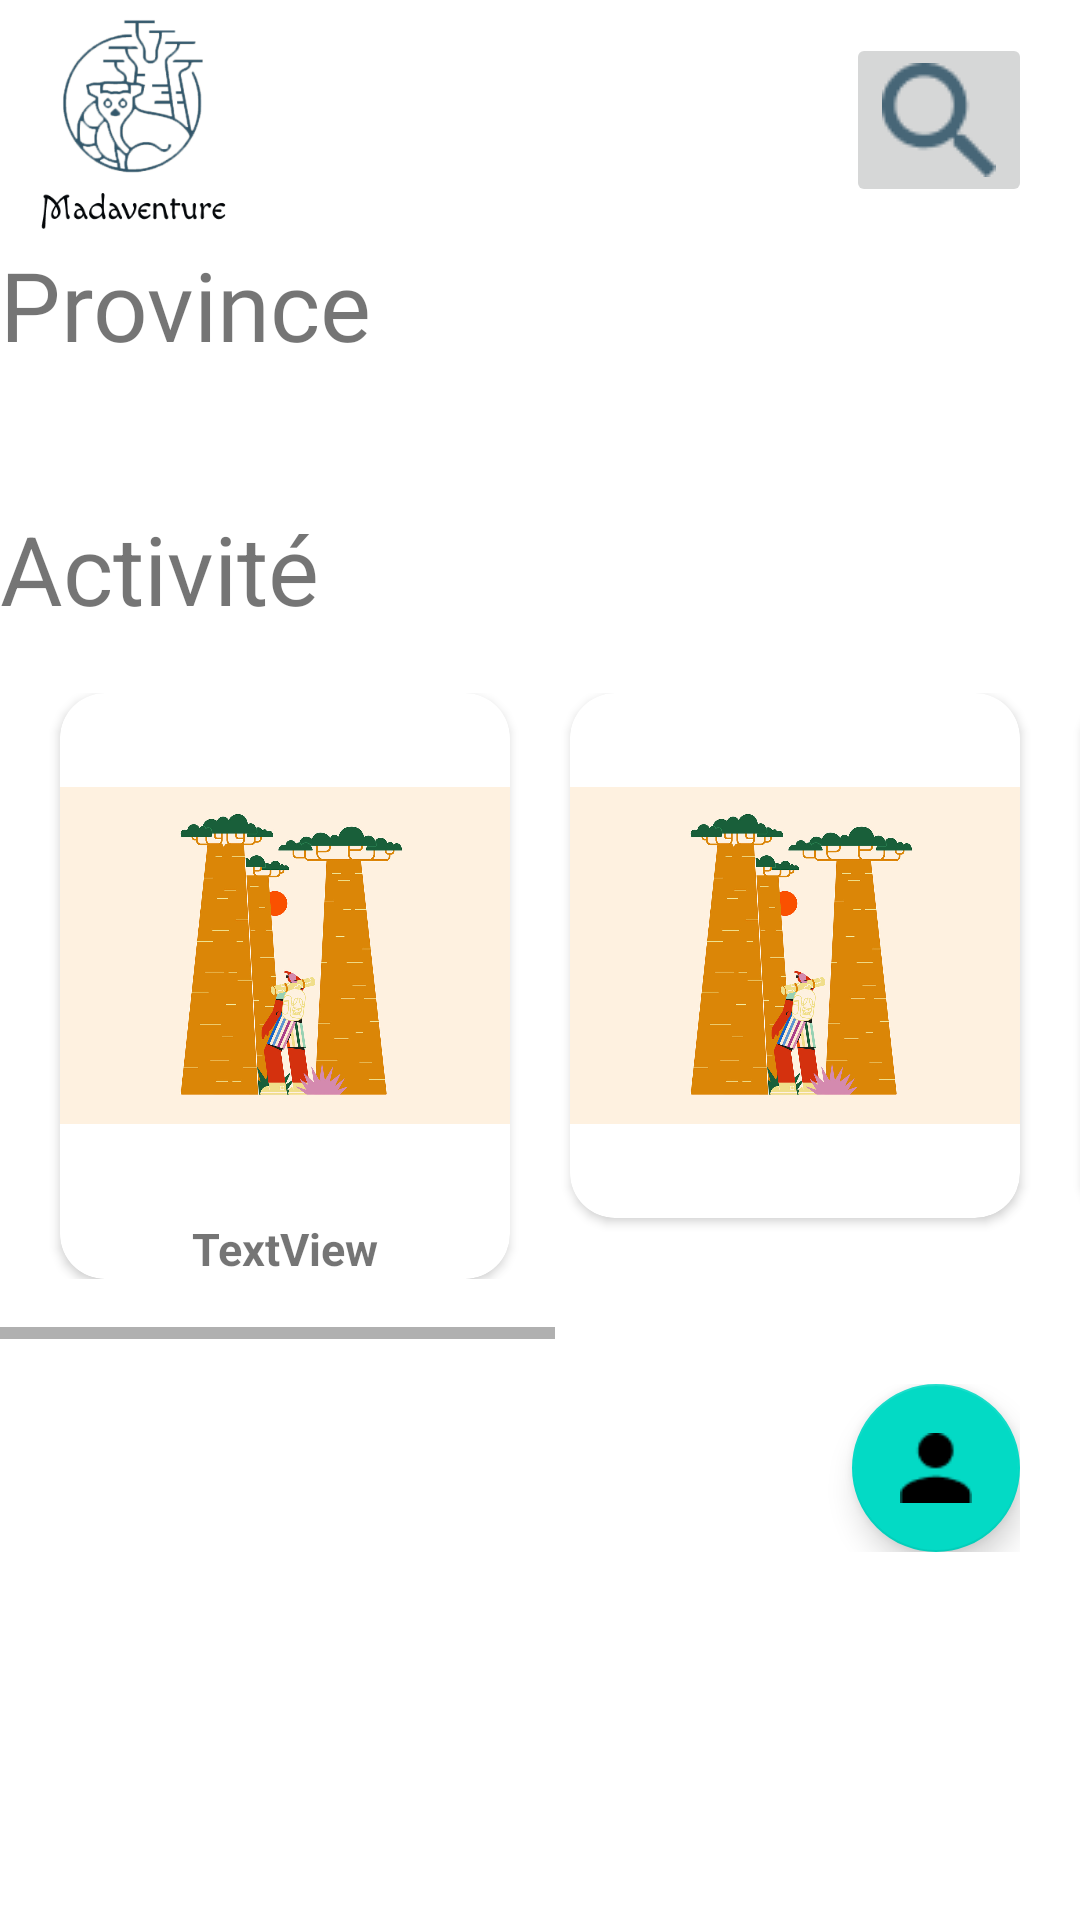

Named icons in this screenshot (1080 x 1920) and their centers, [x,y]:
search: [939,120]
usericon: [936,1468]
